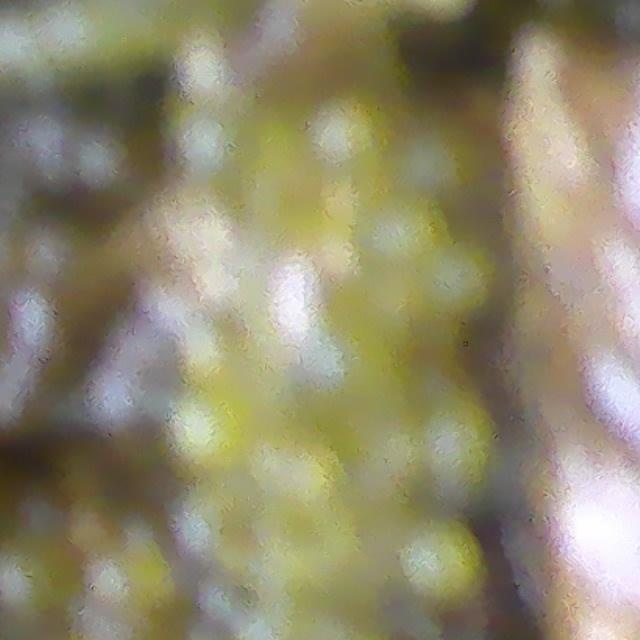SeaGrape: (405, 383, 508, 501), (388, 509, 491, 615), (19, 213, 82, 280), (78, 117, 131, 182), (19, 123, 73, 183), (10, 295, 71, 346)
